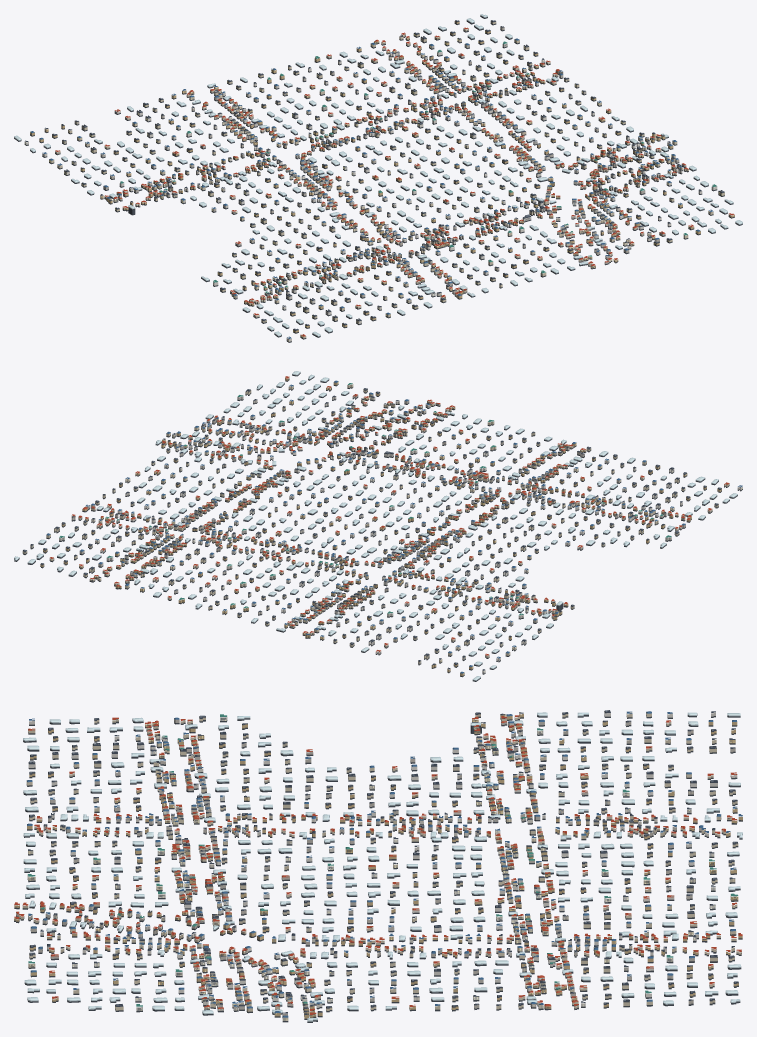
Rendered from osm_buildings_T_W03_N04.glb.
3 renders of one model, top to bottom at view 1: azimuth 30°, elevation 25°; view 2: azimuth 150°, elevation 25°; view 3: azimuth 270°, elevation 25°, orthographic. The views are drawn at different scales.
Parts seen in each view (by area): view 1: OSM_T_W03_N04_foundation, OSM_T_W03_N04_greenhouse_blend, OSM_T_W03_N04_wall_cream_stucco, OSM_T_W03_N04_wall_french_ochre, OSM_T_W03_N04_roof_terracotta, OSM_T_W03_N04_roof_mansard_slate, OSM_T_W03_N04_wall_warm_white, OSM_T_W03_N04_roof_alpine_blue, OSM_T_W03_N04_wall_pastel_sand, OSM_T_W03_N04_roof_mansard_deck, OSM_T_W03_N04_balcony_railing; view 2: OSM_T_W03_N04_foundation, OSM_T_W03_N04_greenhouse_blend, OSM_T_W03_N04_wall_cream_stucco, OSM_T_W03_N04_wall_french_ochre, OSM_T_W03_N04_roof_terracotta, OSM_T_W03_N04_roof_mansard_slate, OSM_T_W03_N04_wall_warm_white, OSM_T_W03_N04_roof_alpine_blue, OSM_T_W03_N04_wall_pastel_sand, OSM_T_W03_N04_roof_mansard_deck; view 3: OSM_T_W03_N04_foundation, OSM_T_W03_N04_greenhouse_blend, OSM_T_W03_N04_wall_cream_stucco, OSM_T_W03_N04_wall_french_ochre, OSM_T_W03_N04_roof_mansard_slate, OSM_T_W03_N04_roof_terracotta, OSM_T_W03_N04_wall_warm_white, OSM_T_W03_N04_roof_alpine_blue, OSM_T_W03_N04_wall_pastel_sand, OSM_T_W03_N04_roof_mansard_deck, OSM_T_W03_N04_roof_mint_metal, OSM_T_W03_N04_balcony_railing.
Boxes of the visible parts, <box> form: OSM_T_W03_N04_foundation: <box>14,16,742,342</box>; OSM_T_W03_N04_greenhouse_blend: <box>14,14,742,336</box>; OSM_T_W03_N04_wall_cream_stucco: <box>49,21,724,338</box>; OSM_T_W03_N04_wall_french_ochre: <box>30,21,734,332</box>; OSM_T_W03_N04_roof_terracotta: <box>55,27,734,336</box>; OSM_T_W03_N04_roof_mansard_slate: <box>25,20,724,330</box>; OSM_T_W03_N04_wall_warm_white: <box>24,42,717,341</box>; OSM_T_W03_N04_roof_alpine_blue: <box>30,38,713,338</box>; OSM_T_W03_N04_wall_pastel_sand: <box>62,26,686,302</box>; OSM_T_W03_N04_roof_mansard_deck: <box>53,20,723,329</box>; OSM_T_W03_N04_balcony_railing: <box>52,22,729,336</box>; OSM_T_W03_N04_foundation: <box>14,373,742,681</box>; OSM_T_W03_N04_greenhouse_blend: <box>14,371,737,680</box>; OSM_T_W03_N04_wall_cream_stucco: <box>22,384,729,662</box>; OSM_T_W03_N04_wall_french_ochre: <box>40,377,721,676</box>; OSM_T_W03_N04_roof_terracotta: <box>50,376,729,655</box>; OSM_T_W03_N04_roof_mansard_slate: <box>23,388,721,670</box>; OSM_T_W03_N04_wall_warm_white: <box>59,396,742,673</box>; OSM_T_W03_N04_roof_alpine_blue: <box>46,380,742,673</box>; OSM_T_W03_N04_wall_pastel_sand: <box>30,394,685,664</box>; OSM_T_W03_N04_roof_mansard_deck: <box>23,388,720,663</box>; OSM_T_W03_N04_foundation: <box>14,714,742,1022</box>; OSM_T_W03_N04_greenhouse_blend: <box>23,712,742,1021</box>; OSM_T_W03_N04_wall_cream_stucco: <box>18,712,741,1020</box>; OSM_T_W03_N04_wall_french_ochre: <box>14,714,742,1018</box>; OSM_T_W03_N04_roof_mansard_slate: <box>28,710,738,1014</box>; OSM_T_W03_N04_roof_terracotta: <box>14,715,742,1014</box>; OSM_T_W03_N04_wall_warm_white: <box>28,712,737,1010</box>; OSM_T_W03_N04_roof_alpine_blue: <box>26,711,742,1017</box>; OSM_T_W03_N04_wall_pastel_sand: <box>16,718,735,1016</box>; OSM_T_W03_N04_roof_mansard_deck: <box>29,710,738,1007</box>; OSM_T_W03_N04_roof_mint_metal: <box>27,714,738,1006</box>; OSM_T_W03_N04_balcony_railing: <box>15,716,736,1014</box>.
Size of the model in its own units: 1941 by 62.7 by 1919.
